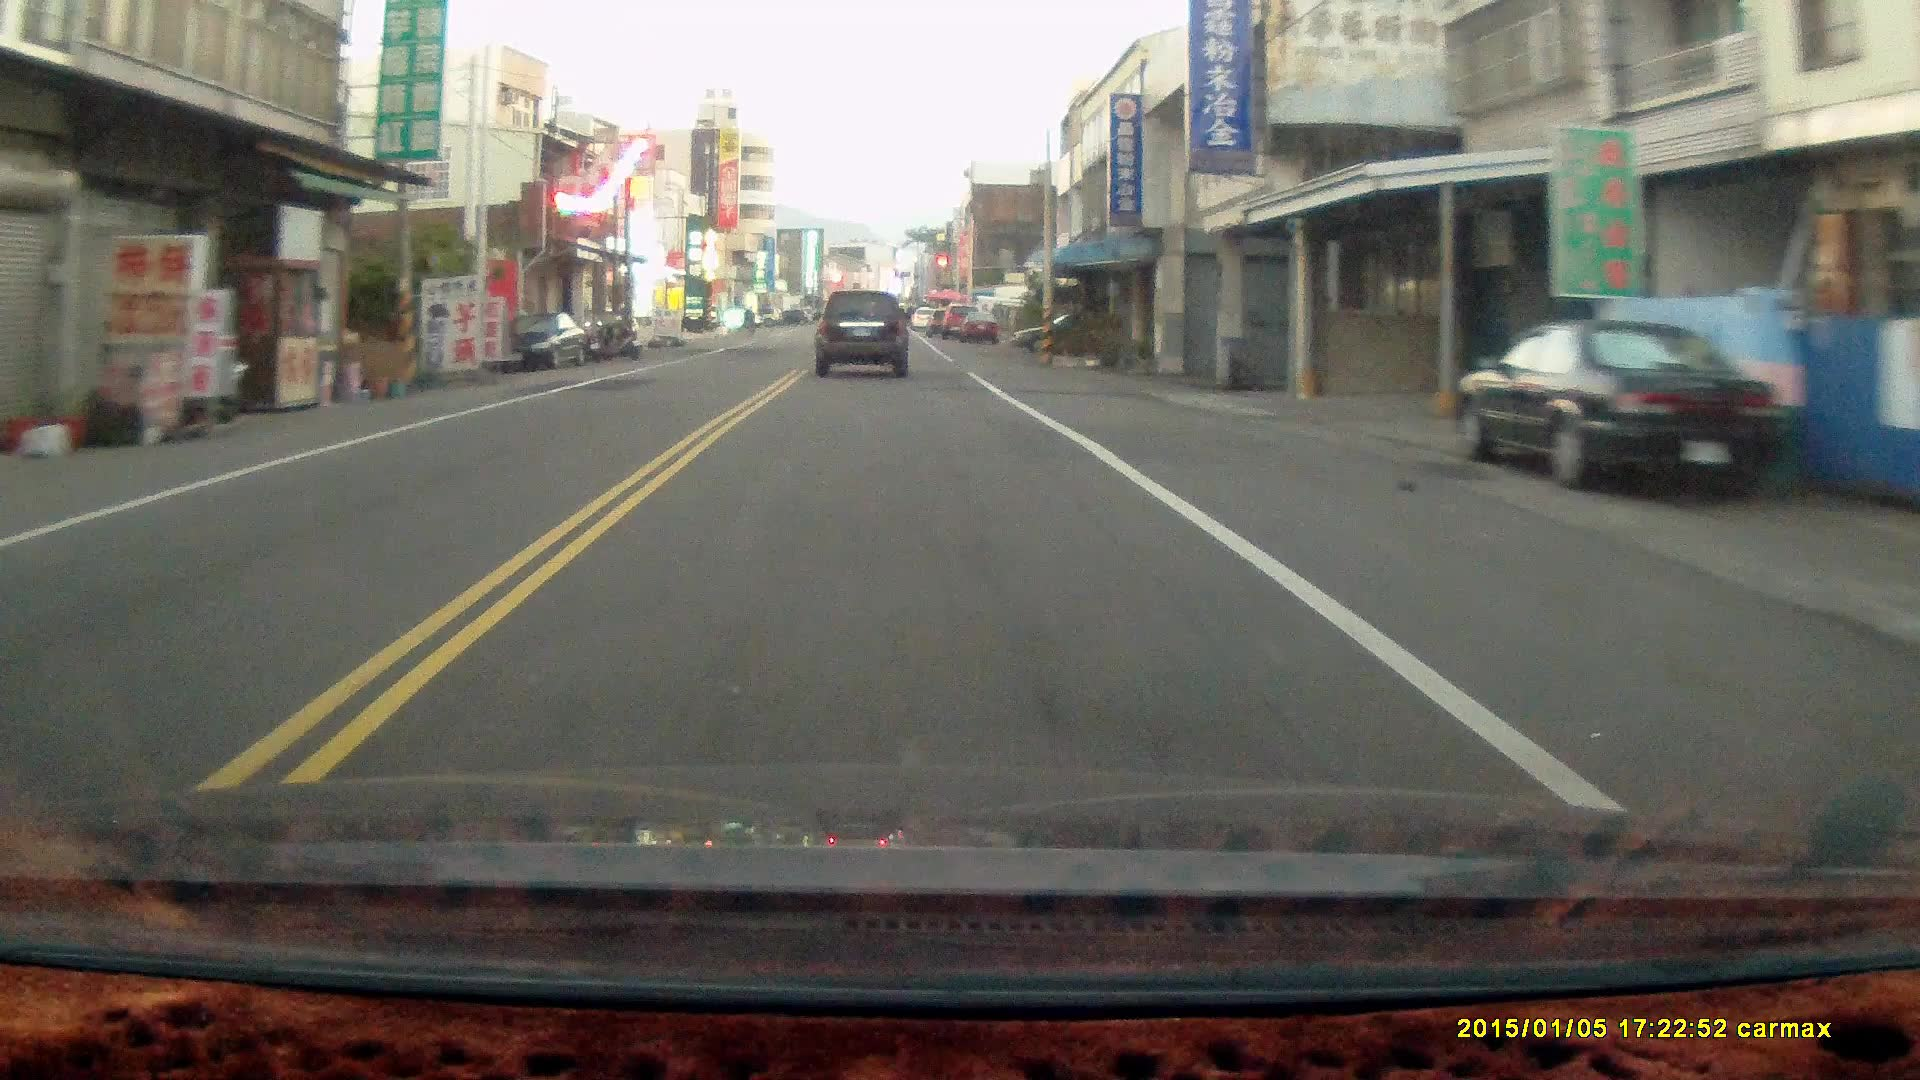vehicle: (1451, 316, 1801, 505), (814, 287, 910, 378)
